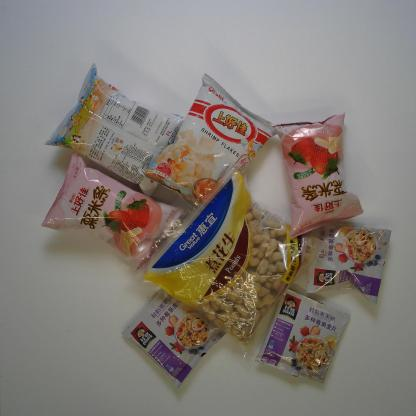Dried Food: (132, 156, 328, 358)
Instant Drink: (120, 288, 227, 391), (255, 288, 352, 386), (305, 224, 393, 306)
Puffed Food: (43, 62, 187, 198), (139, 72, 278, 212), (38, 151, 187, 273), (270, 111, 365, 240)
